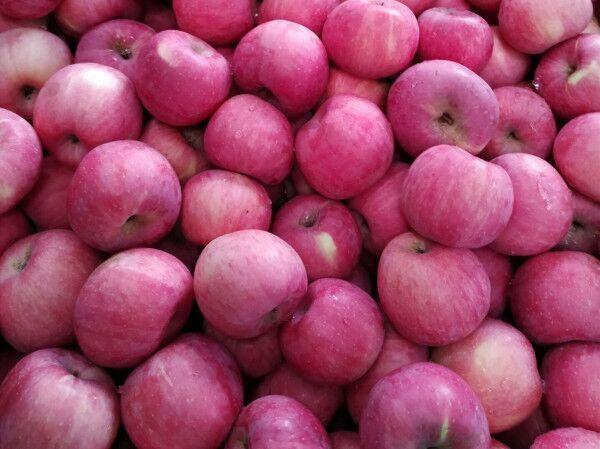apple: (69, 248, 194, 369), (118, 334, 244, 446), (378, 230, 493, 344), (67, 141, 181, 255), (192, 227, 307, 340), (432, 317, 542, 435), (1, 230, 105, 353), (355, 362, 495, 449), (398, 144, 516, 247), (281, 276, 390, 383), (1, 348, 120, 446), (31, 63, 145, 165), (388, 58, 498, 156), (295, 90, 392, 197), (134, 28, 234, 124), (233, 17, 330, 110), (490, 153, 575, 255), (201, 96, 294, 185), (268, 194, 364, 279), (513, 251, 600, 344), (176, 163, 274, 245), (323, 1, 420, 81), (1, 27, 71, 115), (226, 394, 333, 449), (533, 32, 599, 120), (485, 85, 557, 157), (73, 20, 158, 80), (420, 6, 494, 73), (1, 107, 42, 215)
